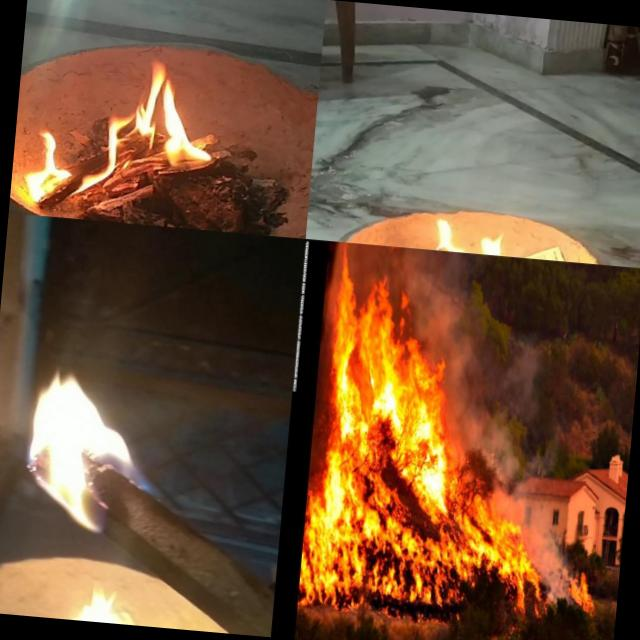fire: (296, 250, 534, 624), (19, 54, 220, 222), (0, 359, 163, 542), (414, 217, 600, 264), (30, 584, 178, 629)
